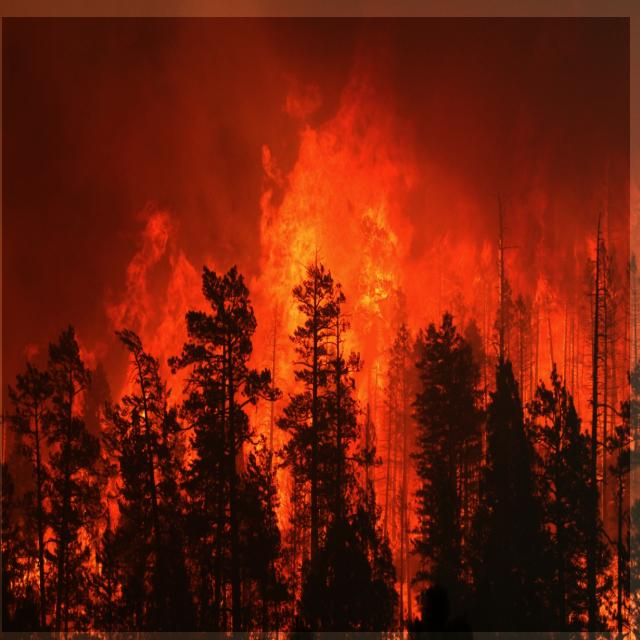Fire: (2, 17, 630, 632)
